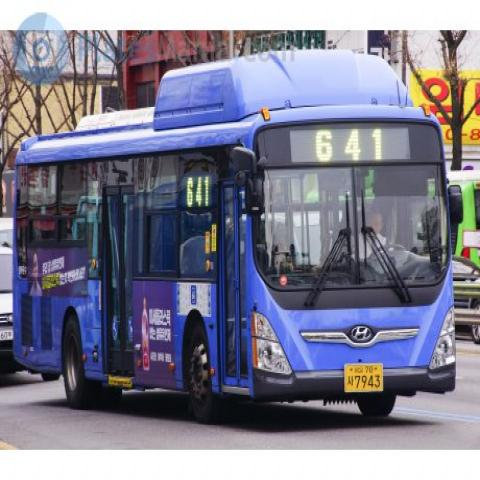LP: (339, 355, 388, 396)
